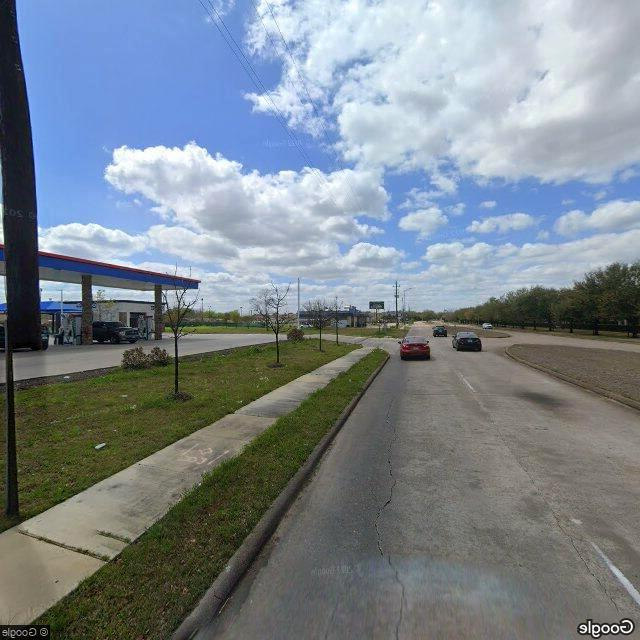crack: (370, 399, 420, 639)
